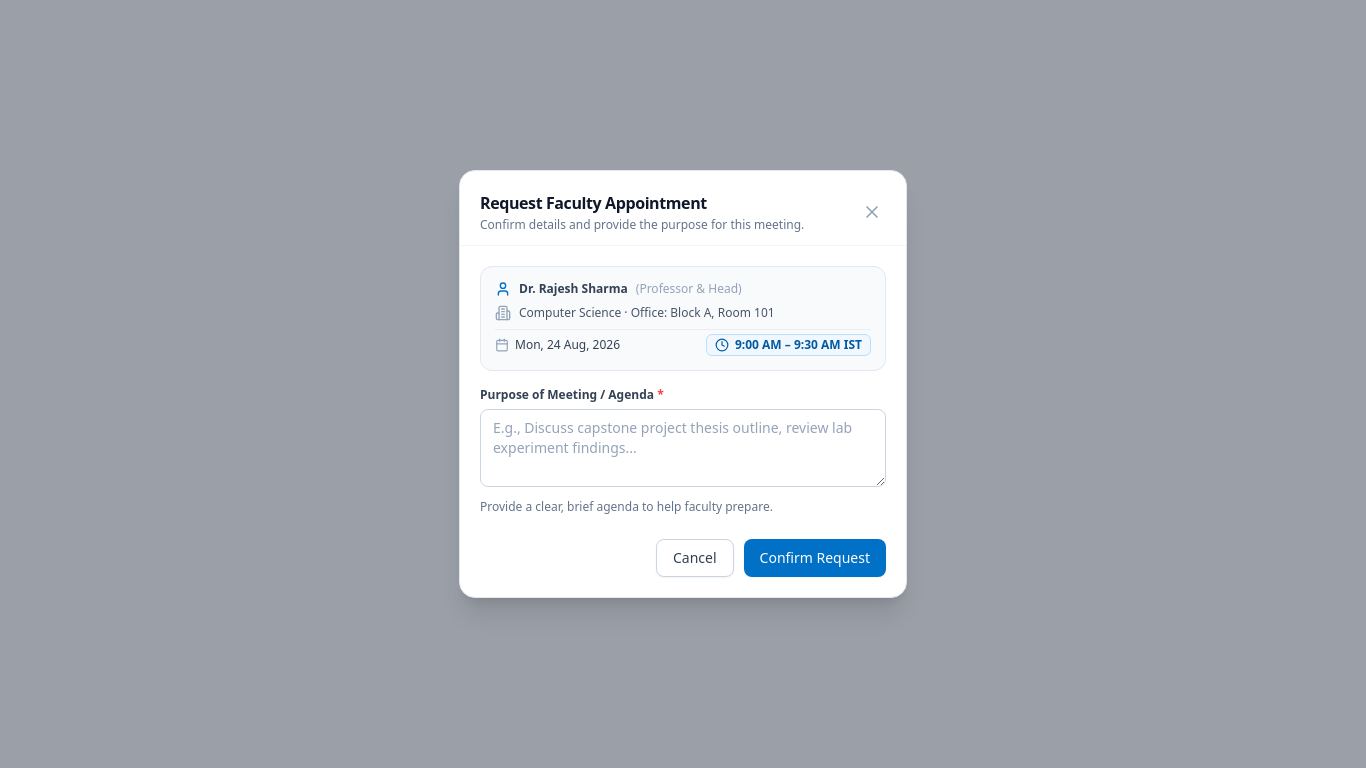
Scenario: BookingModal Component › validates agenda requirement before submission
What coordinates should you click on to do the following:
click the button "Confirm Request"
I would click on:
 (815, 558)
Its box is [744,539,886,577].
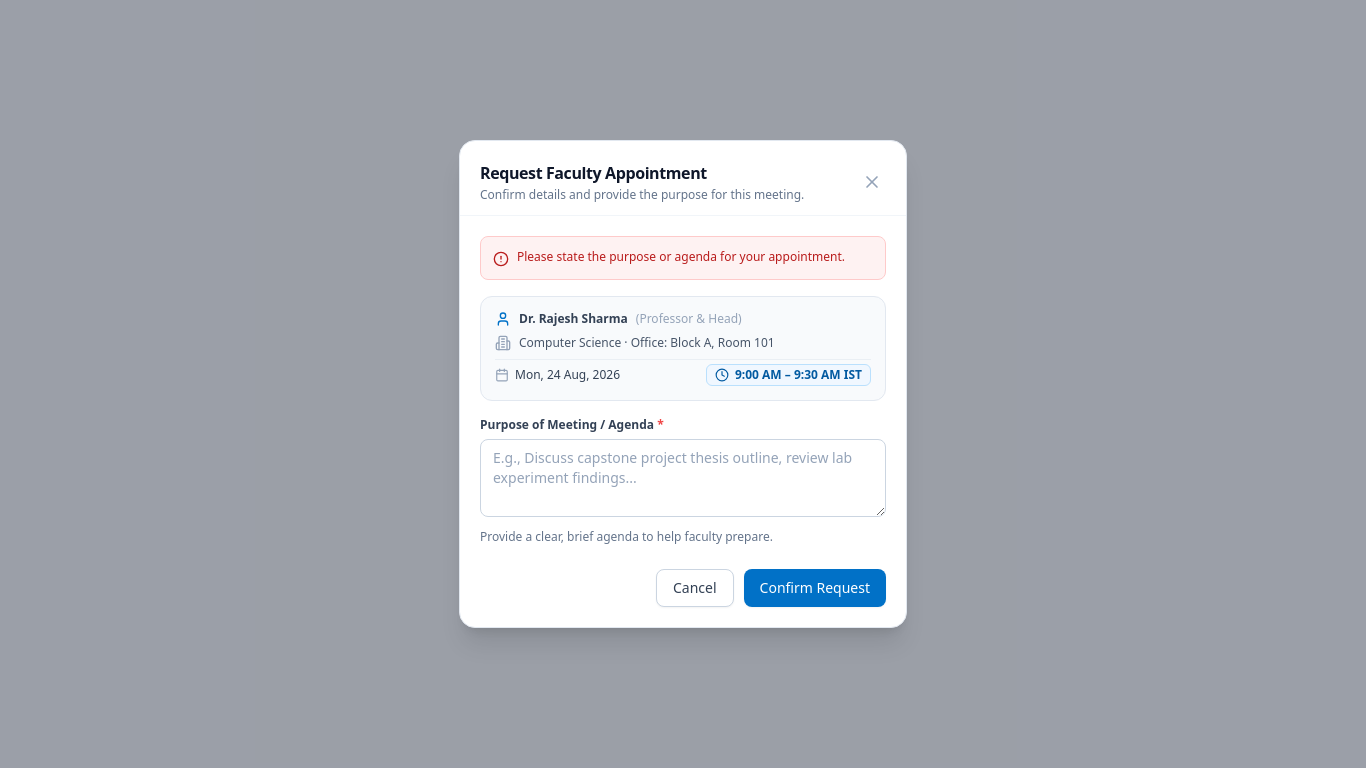
Result: the text "Please state the purpose or agenda for your appointment." is shown at [517,249,873,265]
